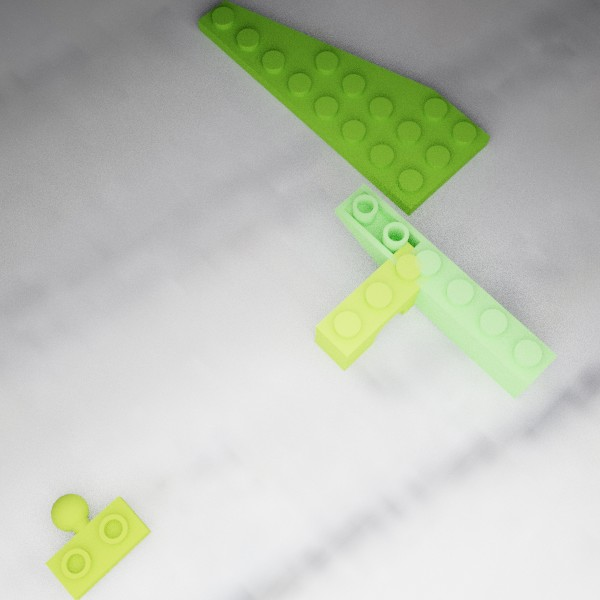lego: (197, 0, 490, 216), (334, 183, 557, 399), (314, 241, 438, 371), (44, 493, 151, 599)
